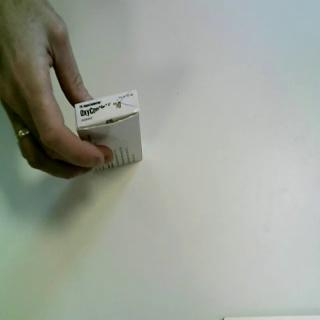oxycontin5mg: (73, 87, 145, 177)
